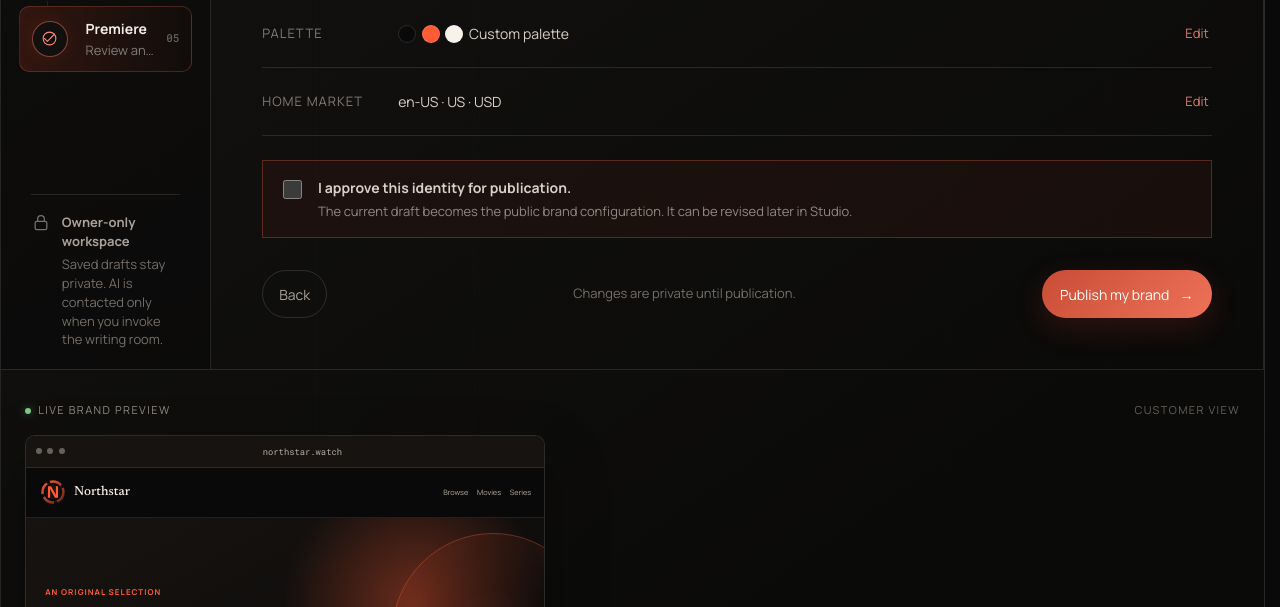
Test: LaunchSetupWizard › requires explicit approval before publication
(page scrolled)
Click the button "Publish my brand →" at (1127, 294), box [1042,270,1212,318]
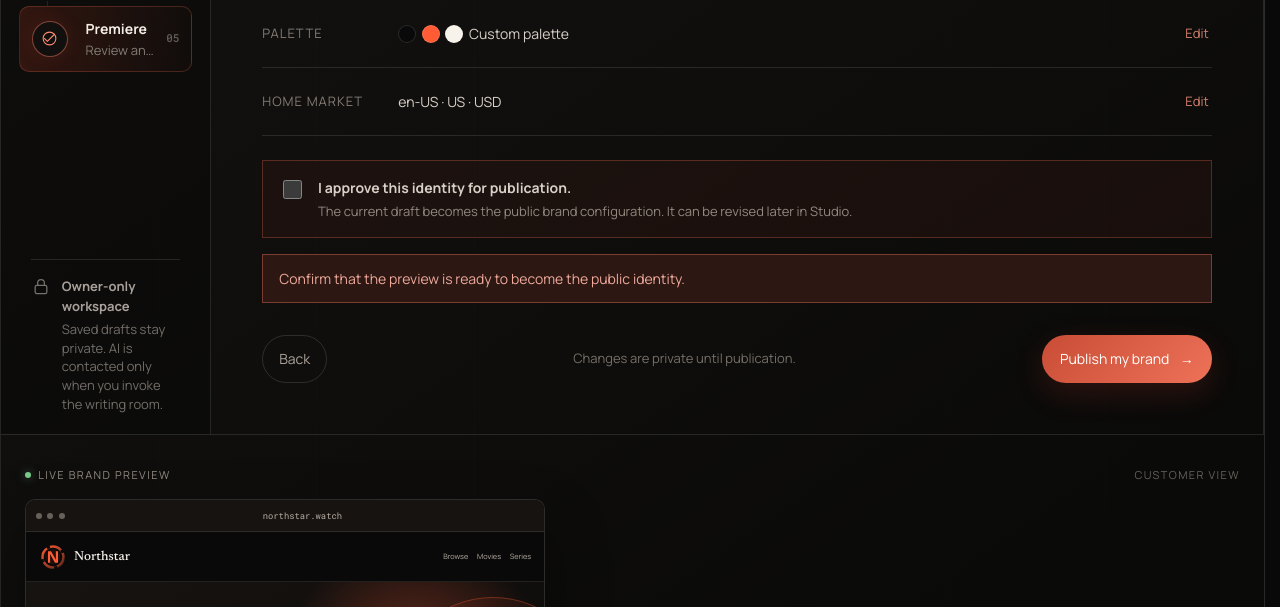
Expected: the message reads "Confirm that the preview is ready to become the public identity.", [279,269,685,288]
